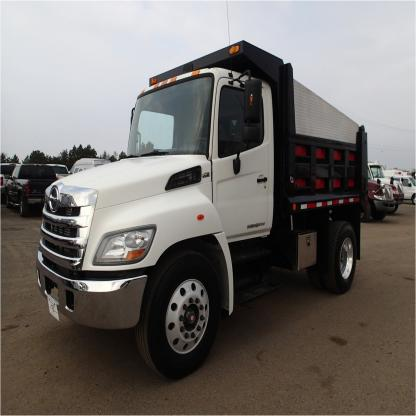dump_truck: (26, 34, 399, 376)
